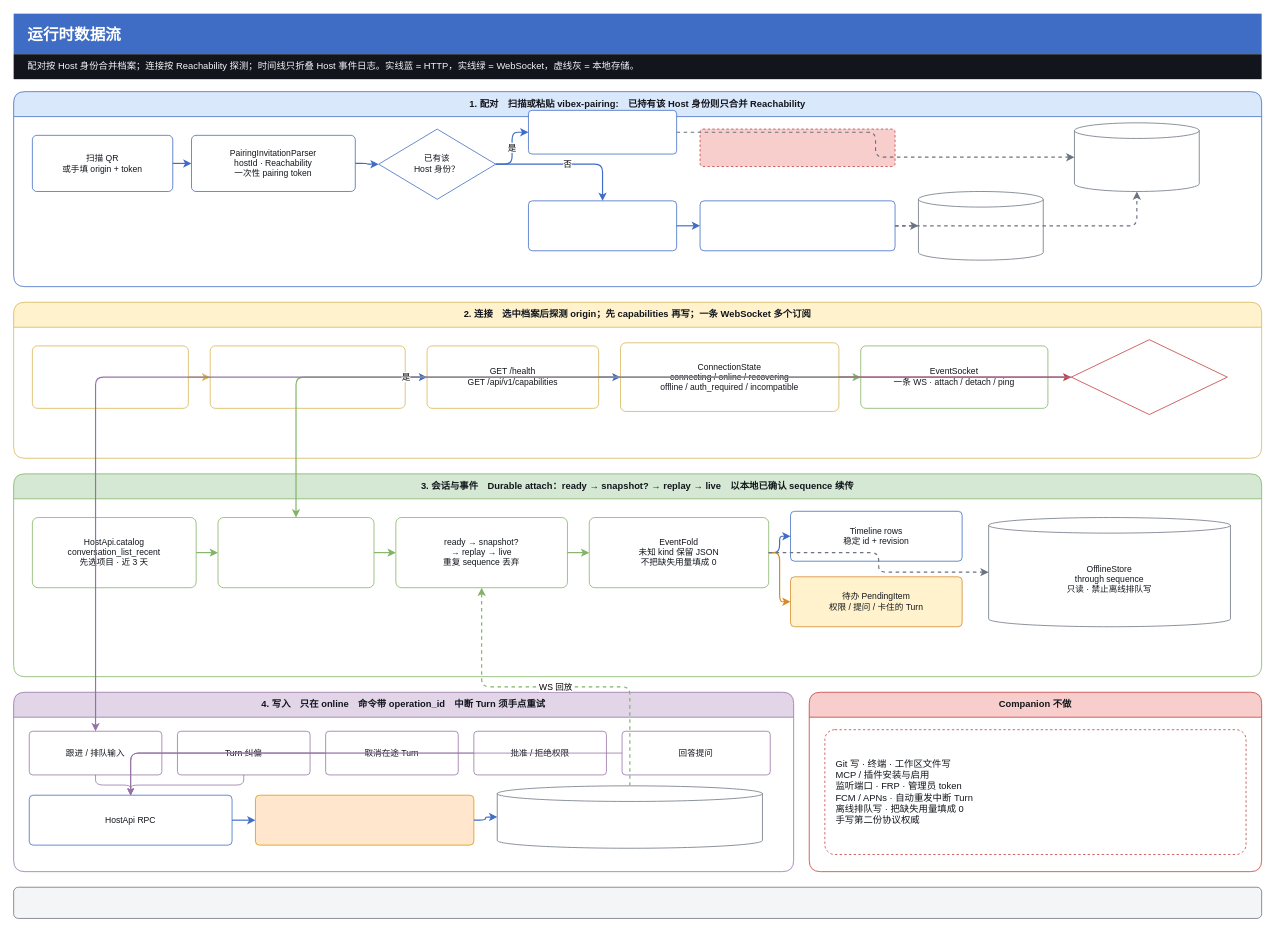
The diagram is 1275 pixels wide and 932 high, and some of its shapes have lost their labels. The shapes that lost their labels are listed below. From the top down, each one's centre as x and y in pixels, then its label:
At (602,132): "合并 Reachability 不重新兑换".
At (797,147): "禁止粘贴管理员 token".
At (1136,156): "ProfileStore Host 档案".
At (602,225): "PairingCoordinator 按 OriginOrder 探测".
At (797,225): "POST /api/v1/auth/pairings/redeem 换长期 Device credential".
At (980,225): "CredentialStore Keystore".
At (110,376): "CompanionModel connectSelected".
At (307,376): "OriginOrder 上次成功 → 远程 HTTPS → 其余".
At (1149,377): "仅 online 可写？".
At (295,552): "attach resource=conversation after_sequence".
At (364,819): "Host ConversationControl".
At (629,816): "Event log 再经 WS 回来".
At (637,902): "蓝实线 HTTP · 绿实线 WebSocket · 灰虚线 本地持久化 · 红框 禁止面 / 仓外运维".
